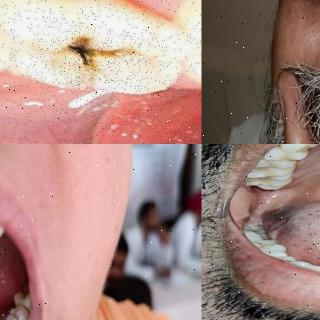cavities: (42, 14, 164, 82), (242, 224, 270, 240), (254, 239, 286, 252)
stains: (281, 157, 303, 167), (293, 148, 312, 158)
